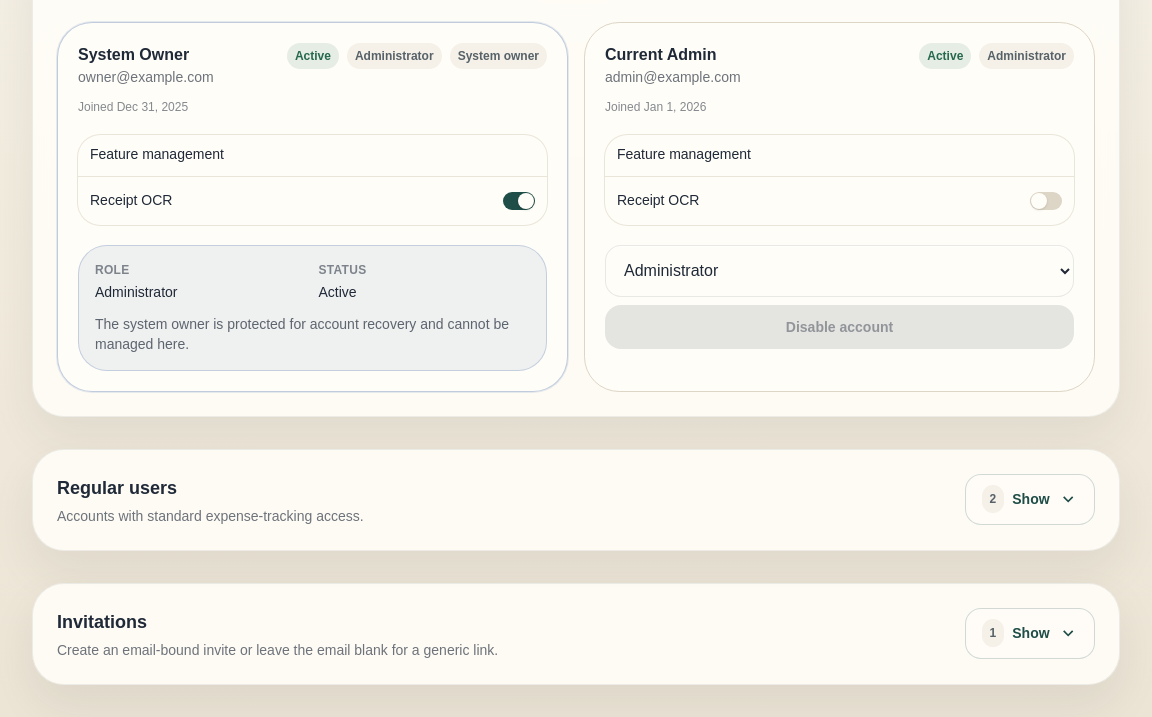
it: AdminUsers › does not allow Receipt OCR to be enabled for an inactive account
(page scrolled)
Click the button with aria-label "Show Regular users section" at (1030, 499), box top-left (965, 474), bottom-right (1095, 525)
(page scrolled)
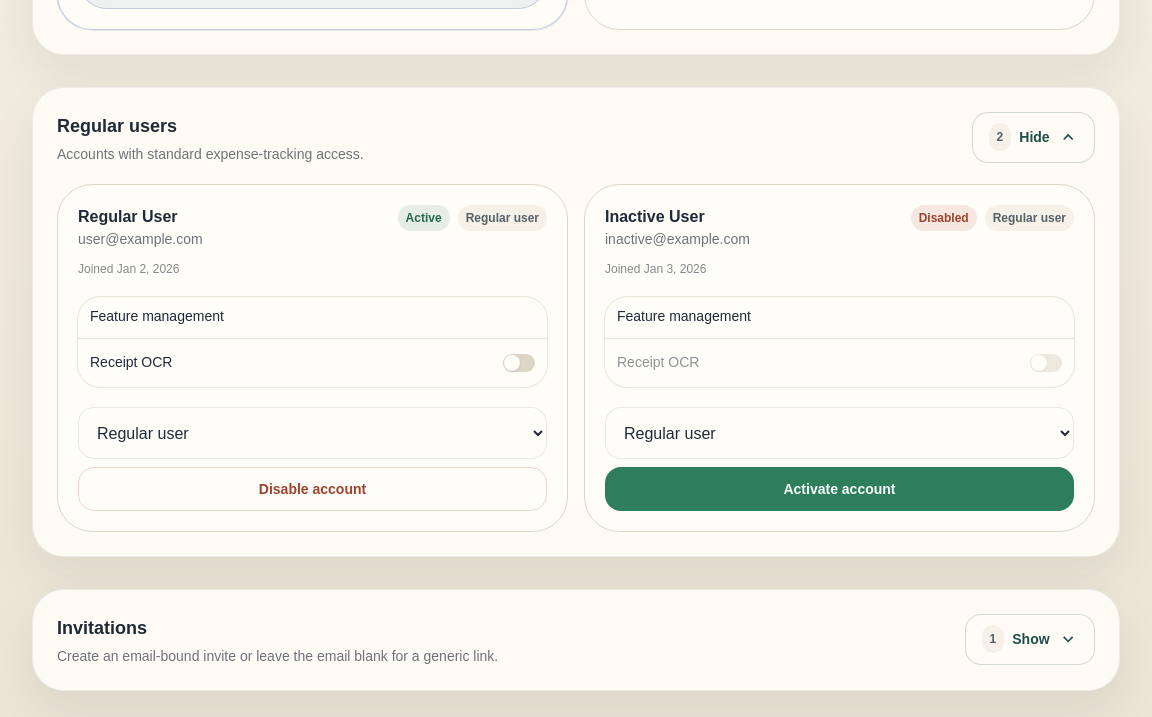
Expected: the text "inactive@example.com" does not show "Activate this account before enabling Receipt OCR.", top-left (584, 184), bottom-right (1095, 532)
Now the text "inactive@example.com" is shown, box top-left (605, 231), bottom-right (750, 247)
Now the 2nd switch named "Receipt OCR" is disabled, box top-left (1030, 354), bottom-right (1062, 372)
